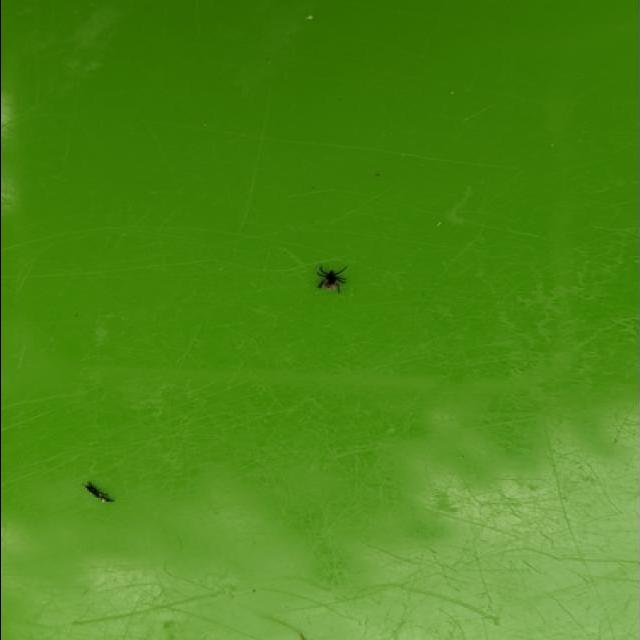Ixodes Ricinus-F: (305, 261, 352, 296)
